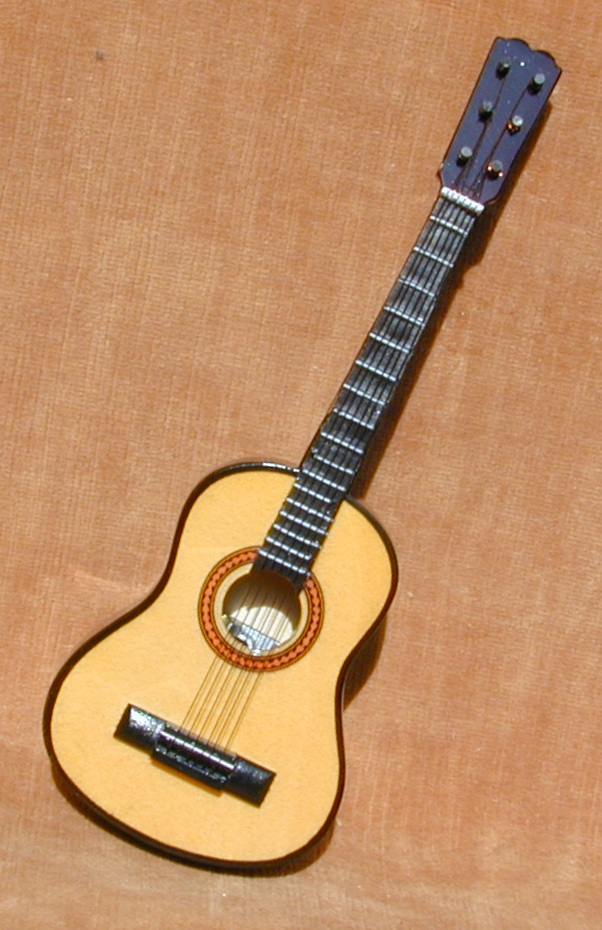guitar: (41, 32, 563, 874)
